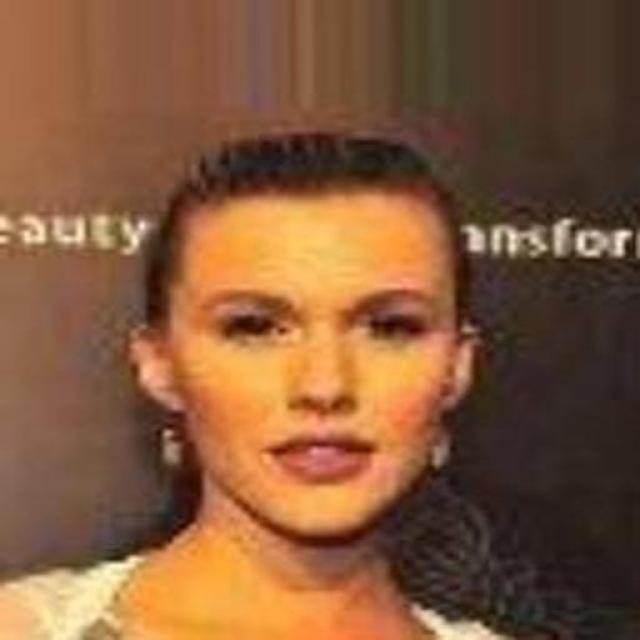bareface: (182, 231, 460, 523)
